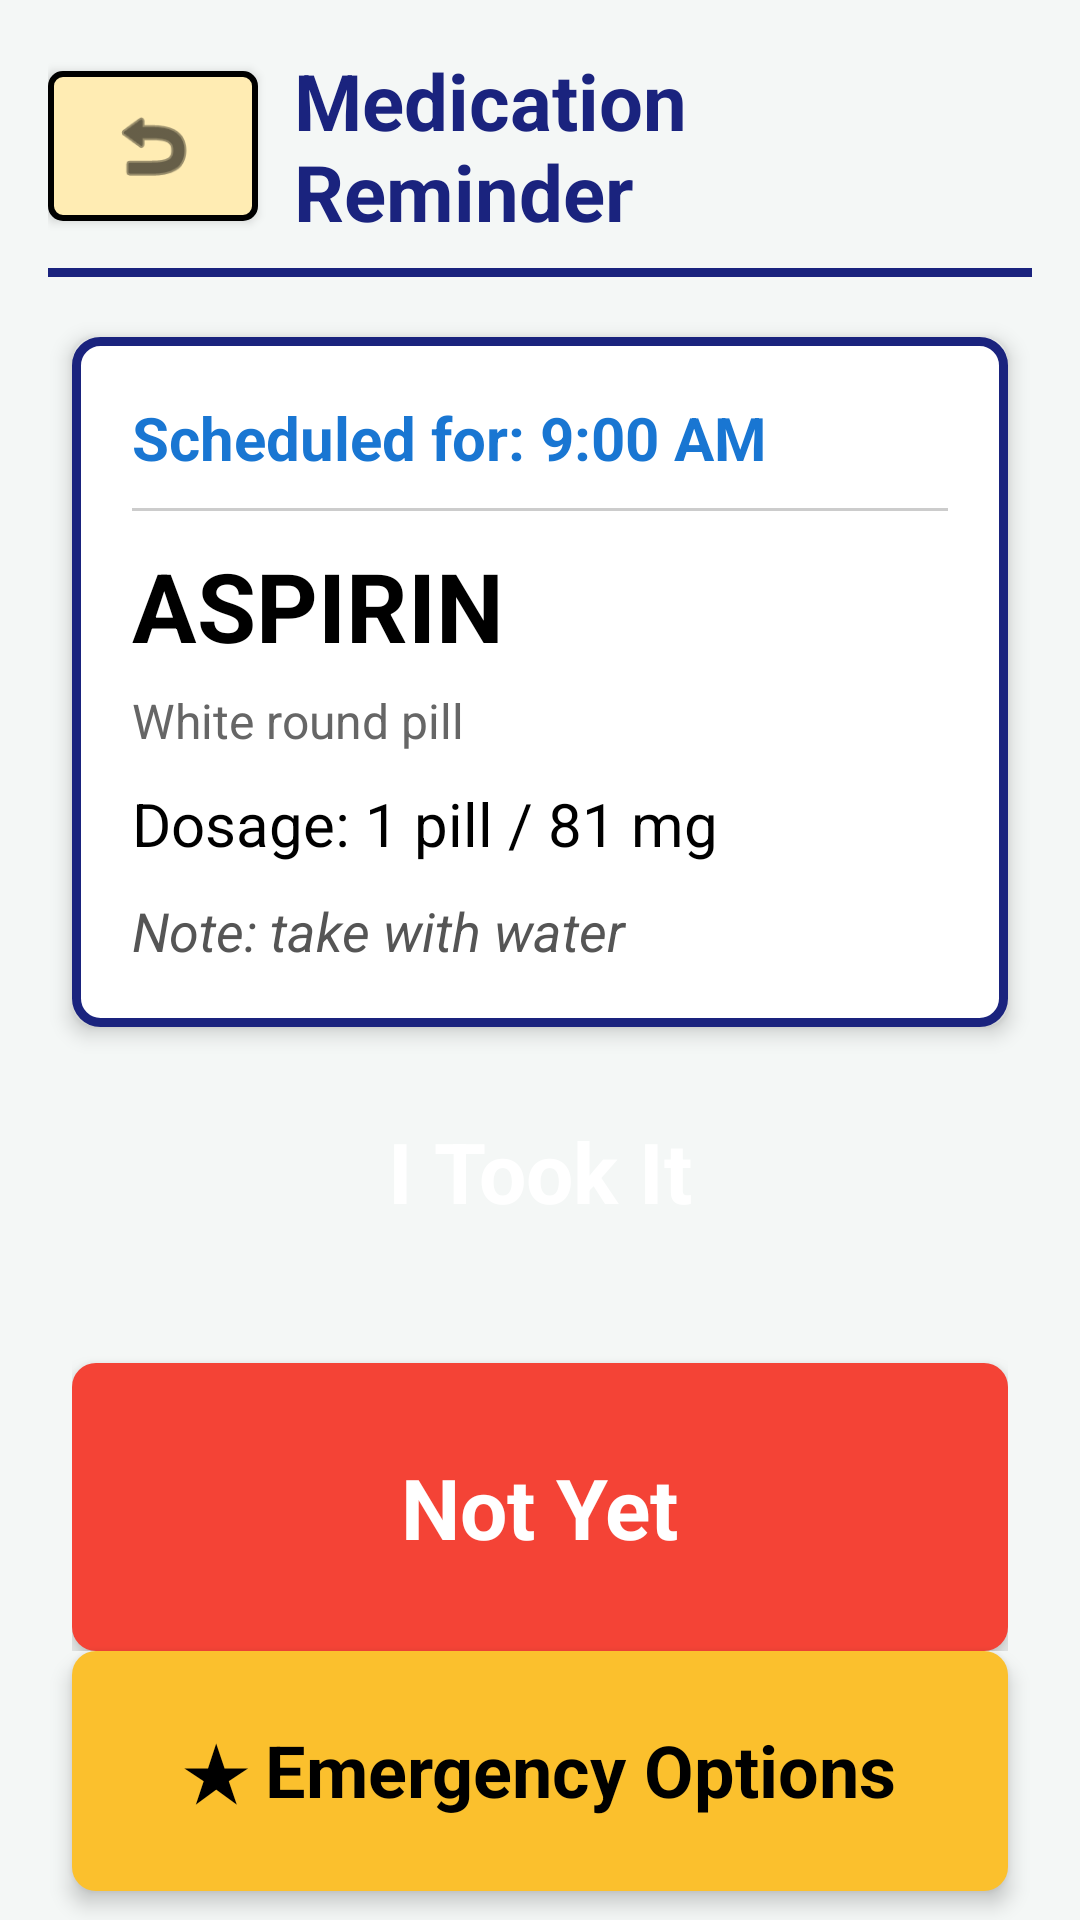

Icons on this 1080 × 1920 Android screen, each with the point to tap as [x,y]:
revert: [154,146]
